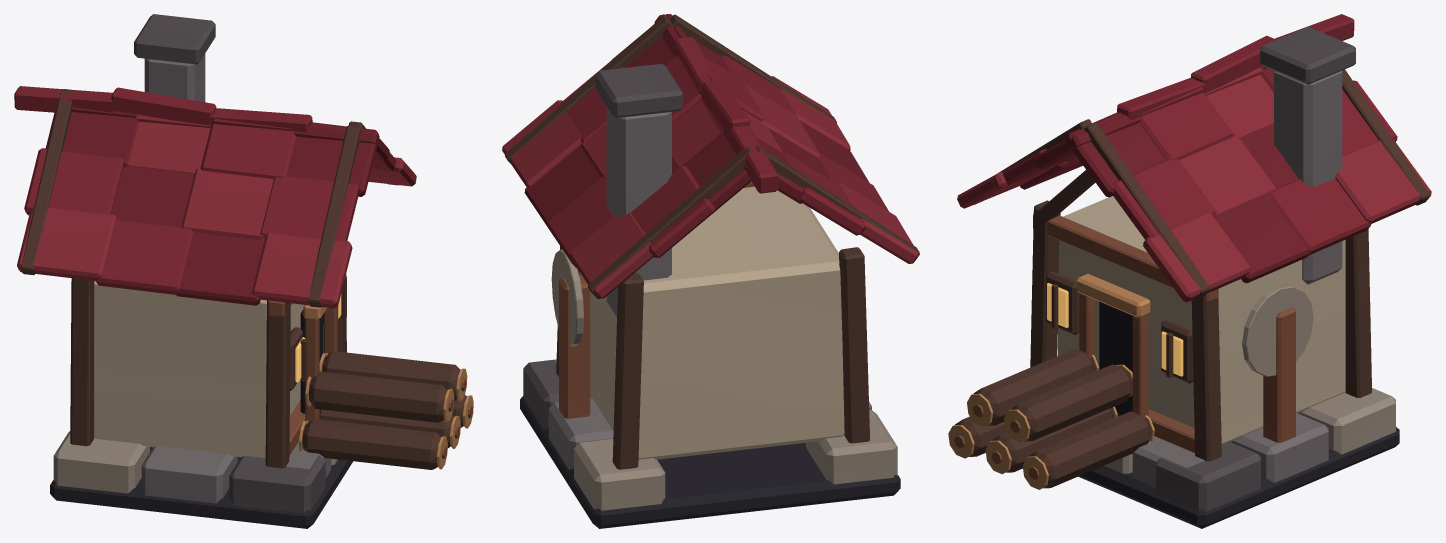
File: building_sawmill-BaQQeofW.glb
3 views of the same model, side by side, from view 1: azimuth 30°, elevation 25°; view 2: azimuth 150°, elevation 25°; view 3: azimuth 270°, elevation 25° (orthographic). The views are drawn at different scales.
Visible parts, largest first — view 1: building_sawmill_l1_body; view 2: building_sawmill_l1_body, building_sawmill_l1_gold; view 3: building_sawmill_l1_body, building_sawmill_l1_gold, building_sawmill_l1_glow.
Boxes of the visible parts, x1,y1,x2,y2 form: building_sawmill_l1_body: (14, 14, 473, 528); building_sawmill_l1_body: (502, 14, 919, 528); building_sawmill_l1_gold: (551, 249, 583, 346); building_sawmill_l1_body: (948, 14, 1431, 528); building_sawmill_l1_gold: (1242, 284, 1313, 376); building_sawmill_l1_glow: (1047, 283, 1183, 376).
Bounding box in the file's own units: 0.994 × 0.933 × 1.01.
3 materials, 3 textured.
